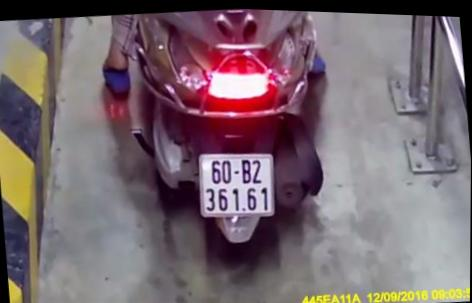LP: (195, 142, 280, 221)
